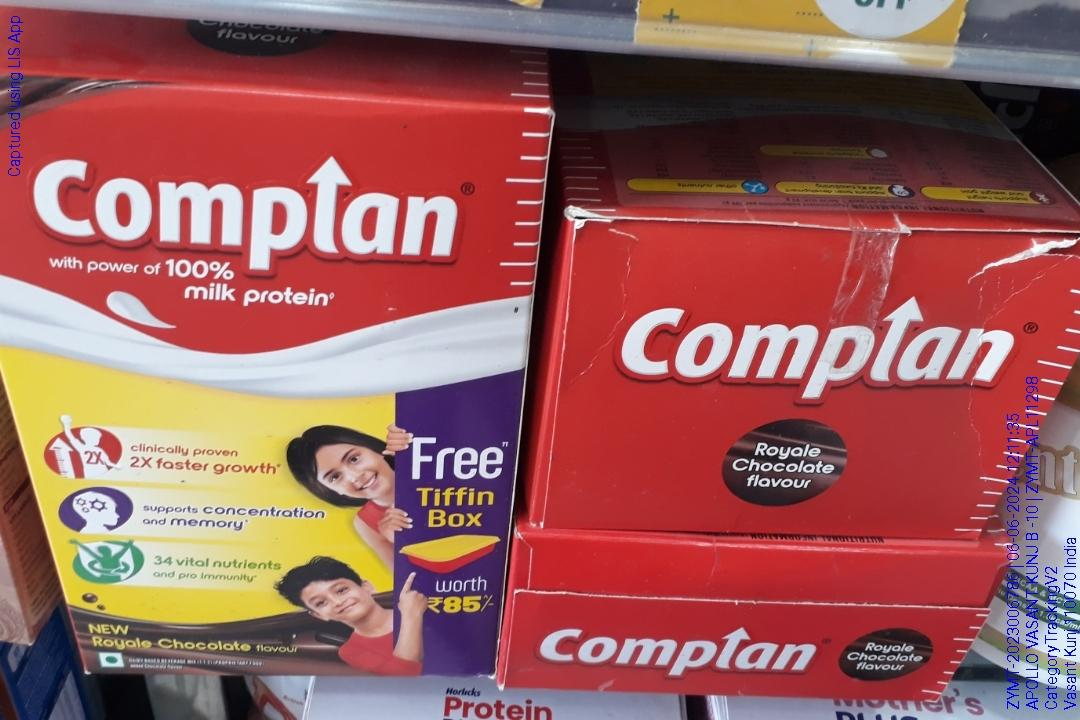COMPLAN_CHOCOLATE_500_GMS_PACK: (17, 88, 513, 682)
